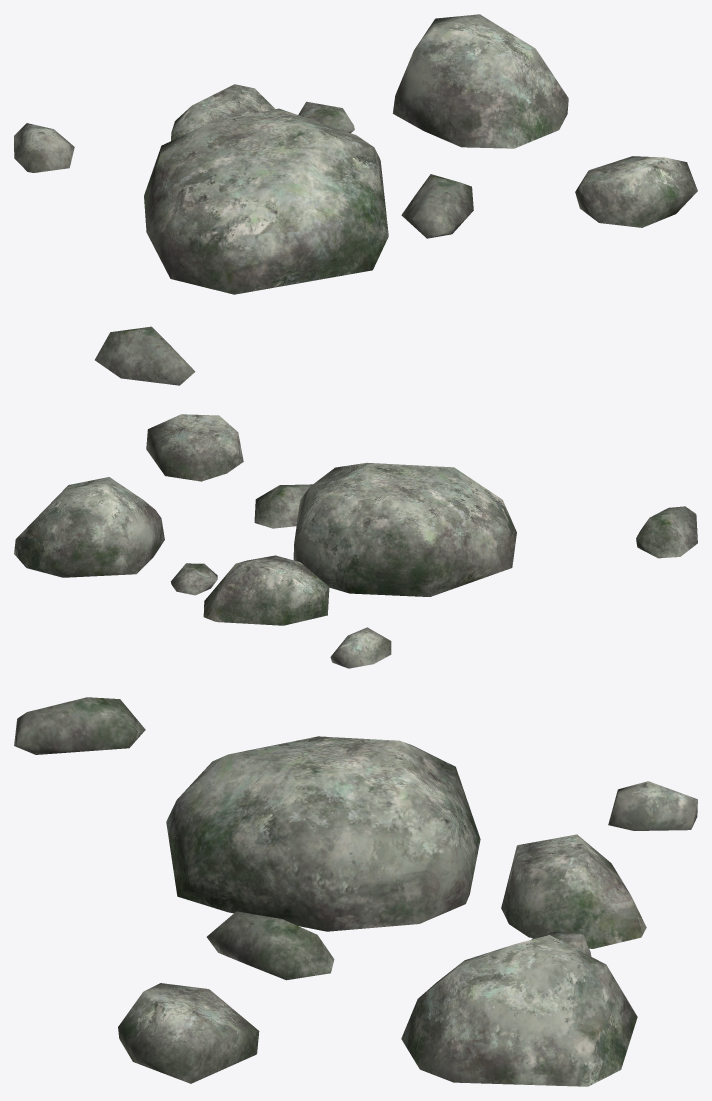
Rendered from RockSmall1.fbx.
The picture shows the model from 3 angles, top to bottom: view 1: azimuth 30°, elevation 25°; view 2: azimuth 150°, elevation 25°; view 3: azimuth 270°, elevation 25°; orthographic projection. The views are drawn at different scales.
Parts seen in each view (by area): view 1: SM_cmn_mount_Stone_01a; view 2: SM_cmn_mount_Stone_01a; view 3: SM_cmn_mount_Stone_01a.
Part boxes in pixels (x1,y1,x2,y2): SM_cmn_mount_Stone_01a: (14,14,697,385); SM_cmn_mount_Stone_01a: (14,414,697,668); SM_cmn_mount_Stone_01a: (14,697,697,1086).
Size of the model in its own units: 108 by 17.11 by 85.66.
